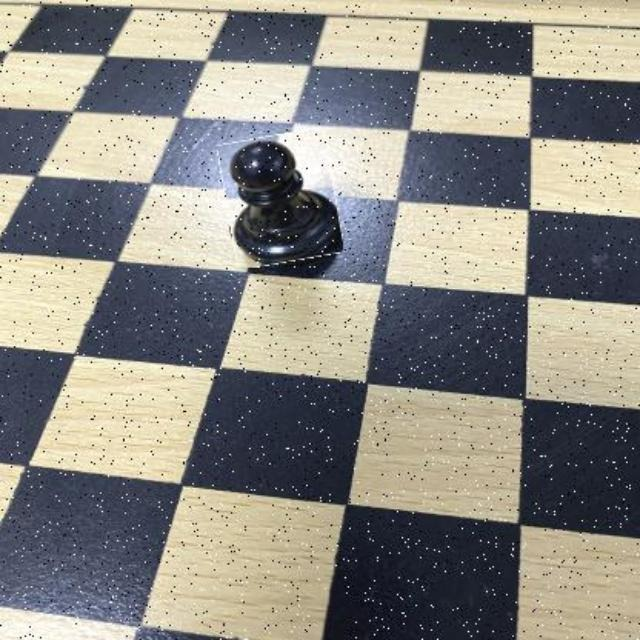black-pawn: (224, 132, 340, 265)
